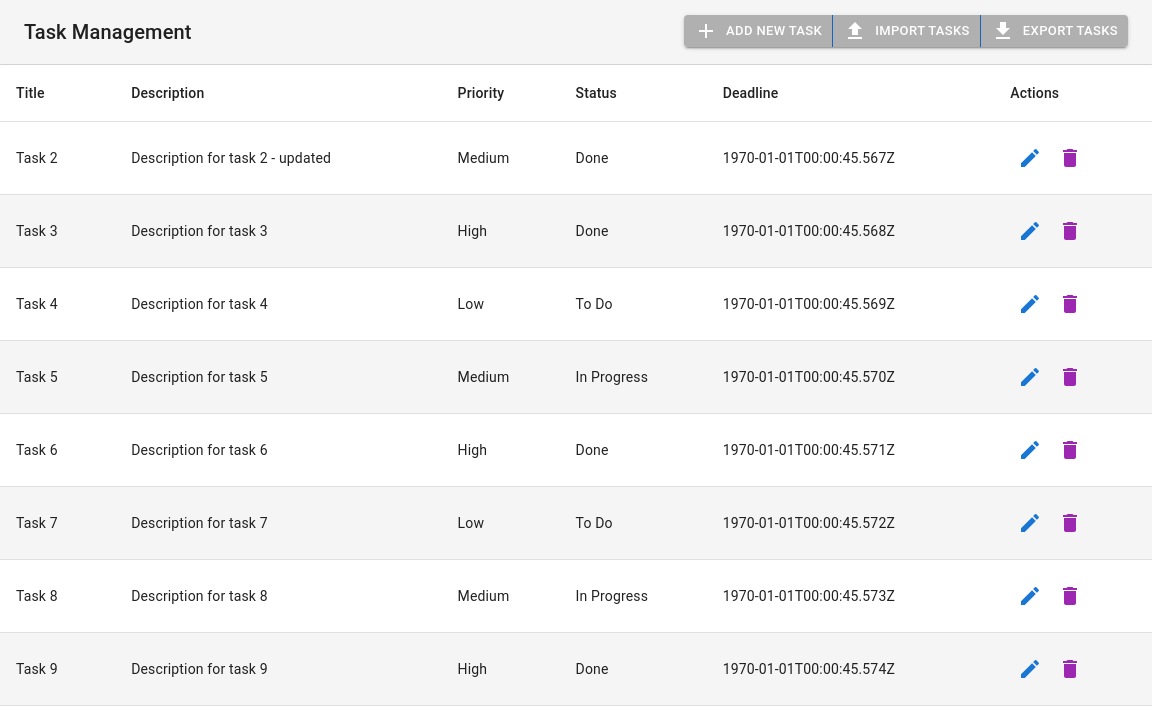
it: TaskList Component › confirms deletion when delete button is clicked
Click the button with test id "delete-task-66eb235162c61beaed77a9f8".
click(1070, 158)  # box left=1050, top=138, right=1090, bottom=178
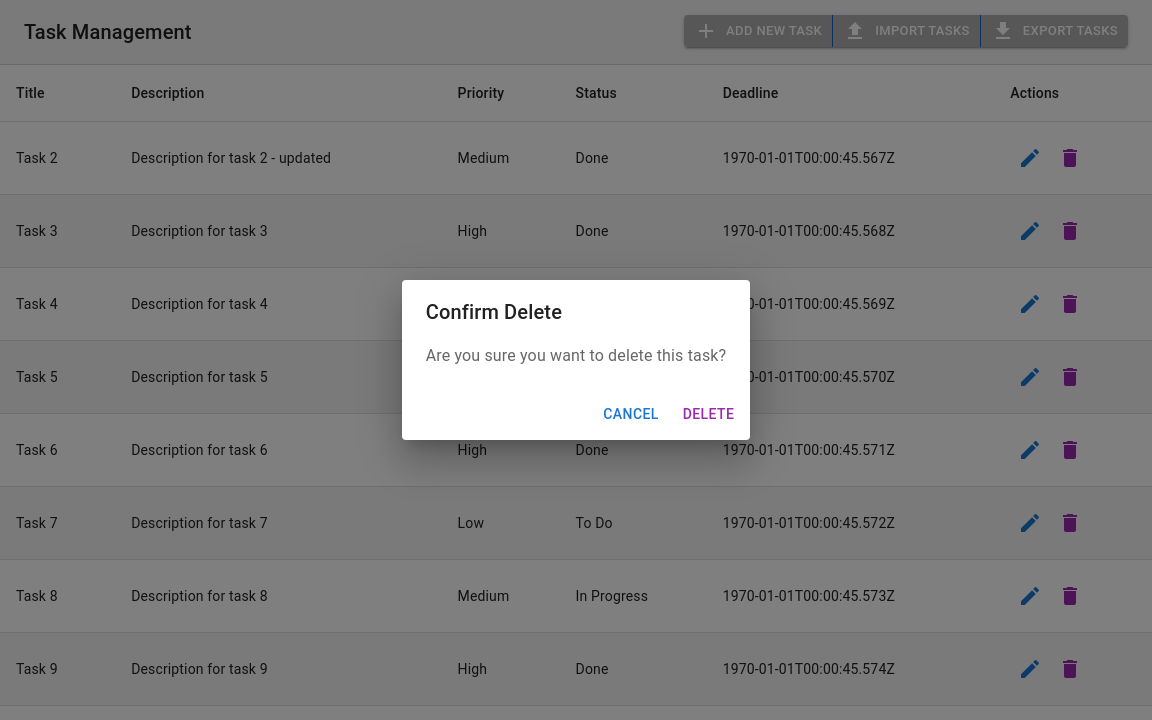
Now the heading "Confirm Delete" is shown, box left=426, top=300, right=562, bottom=324
